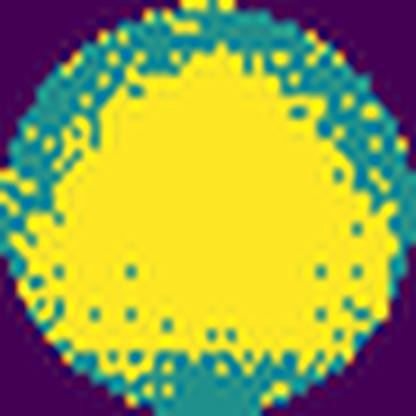Loc: (22, 41, 396, 371)
